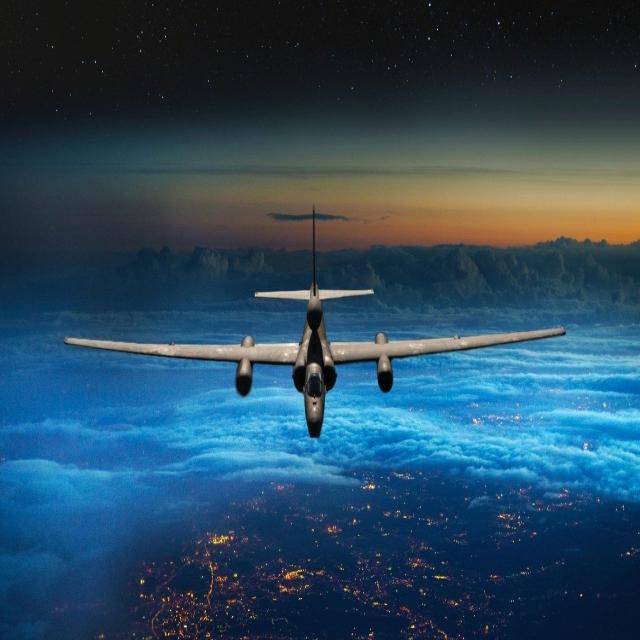MIL_Plane: (63, 202, 567, 440)
